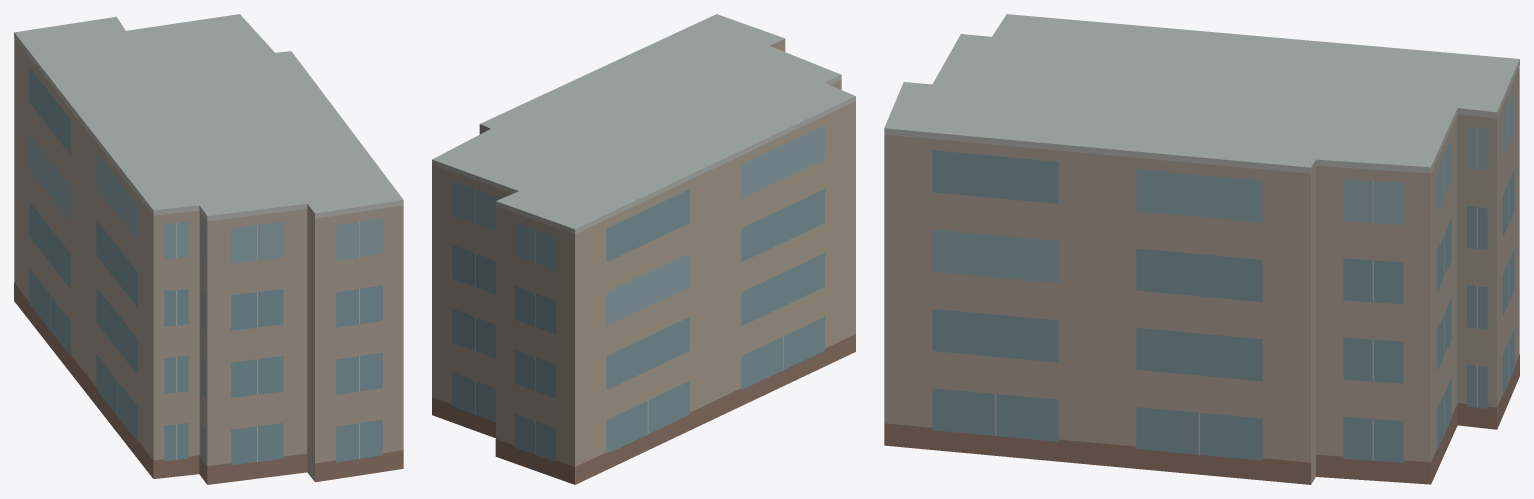
Rendered from survey-upis-32894424.glb.
3 views of the same model, side by side, from view 1: azimuth 30°, elevation 25°; view 2: azimuth 150°, elevation 25°; view 3: azimuth 270°, elevation 25° (orthographic). The views are drawn at different scales.
Visible parts, largest first — view 1: survey-upis-32894424.tmp; view 2: survey-upis-32894424.tmp; view 3: survey-upis-32894424.tmp.
Boxes of the visible parts, left/top/right/bottom form: survey-upis-32894424.tmp: left=14, top=14, right=403, bottom=484; survey-upis-32894424.tmp: left=432, top=14, right=855, bottom=484; survey-upis-32894424.tmp: left=884, top=14, right=1519, bottom=484.
Size of the model in its own units: 12.99 by 12.5 by 22.71.
